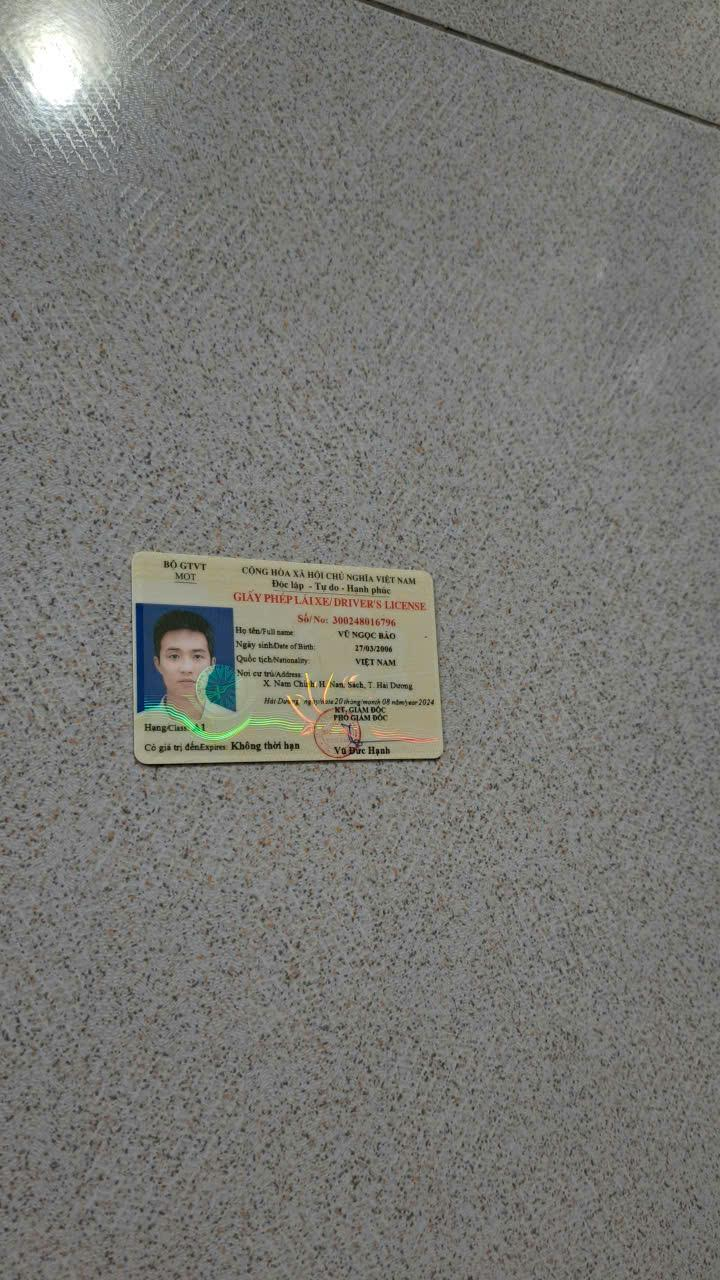gplx: (124, 543, 450, 770)
